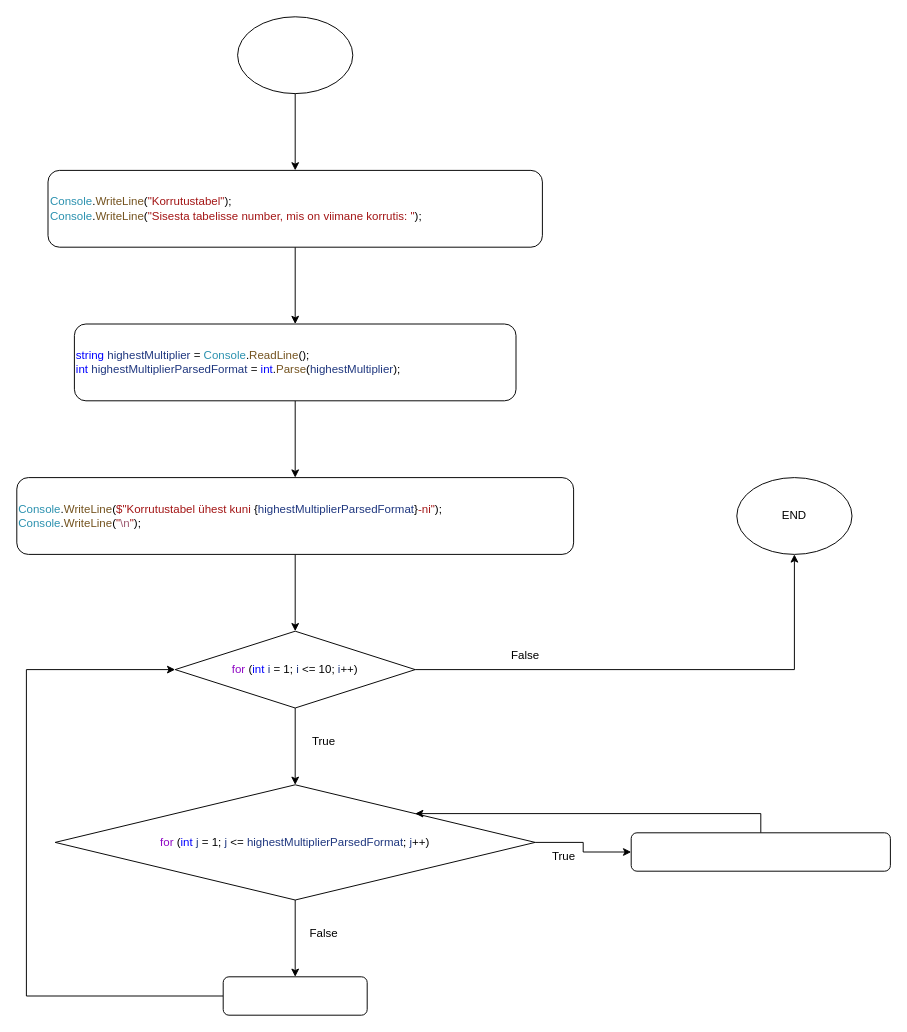
This 907x1032 diagram has some shape labels left out. The box of each missing label's shape, as (x1, y1, x2, y2) in pixels:
Console . Write ( $" { j } x { i } = { j * i } , " );: (630, 832, 890, 871)
Console . WriteLine ();: (222, 976, 367, 1015)
START: (237, 16, 353, 94)
